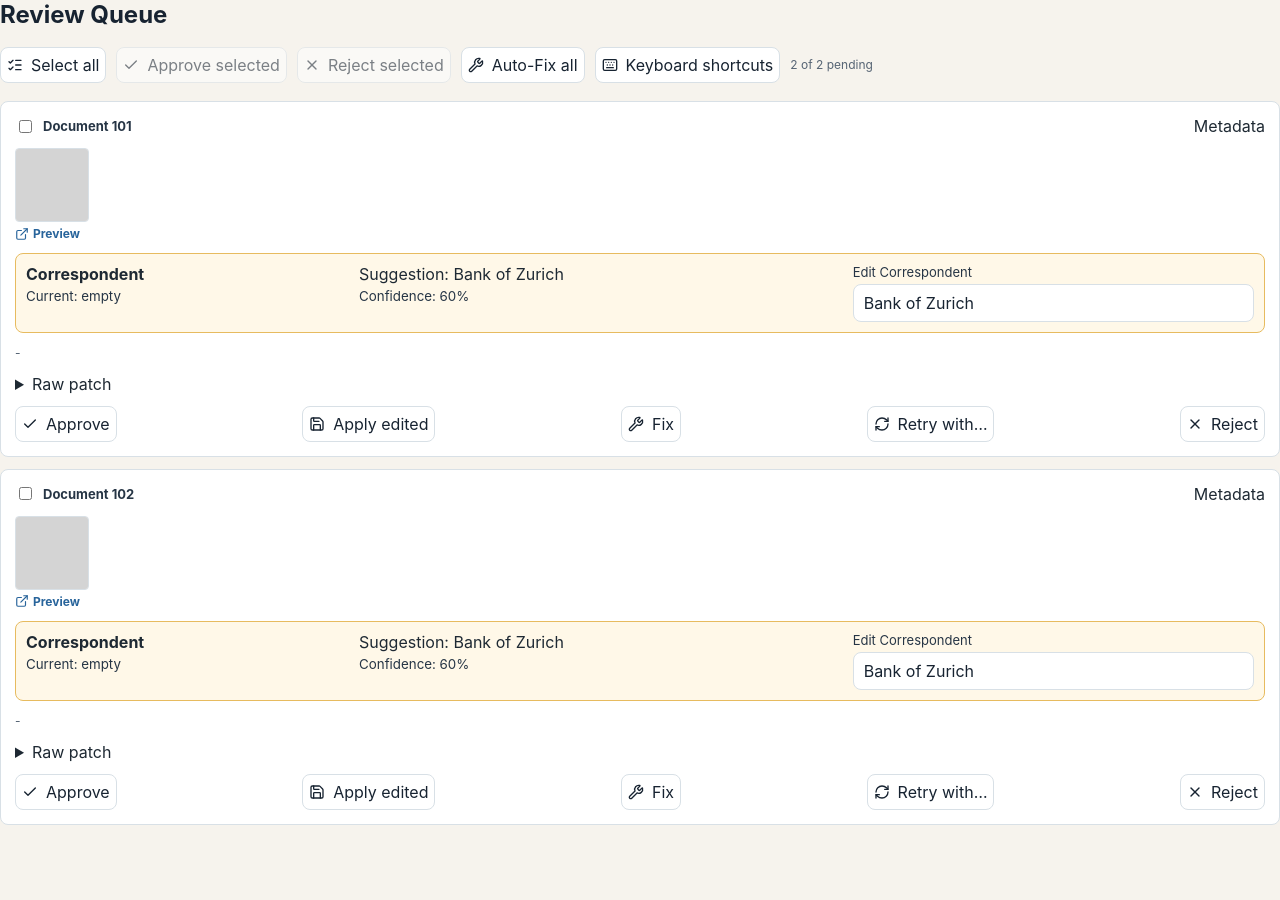
<Reviews> triage features › retries a metadata review with the chosen provider, model and prompt version (#445)
Expected: the text "Document 101" is shown, [43,118,132,134]
Click the 1st button "Retry with…" at point(931, 424), box [867,406,994,442]
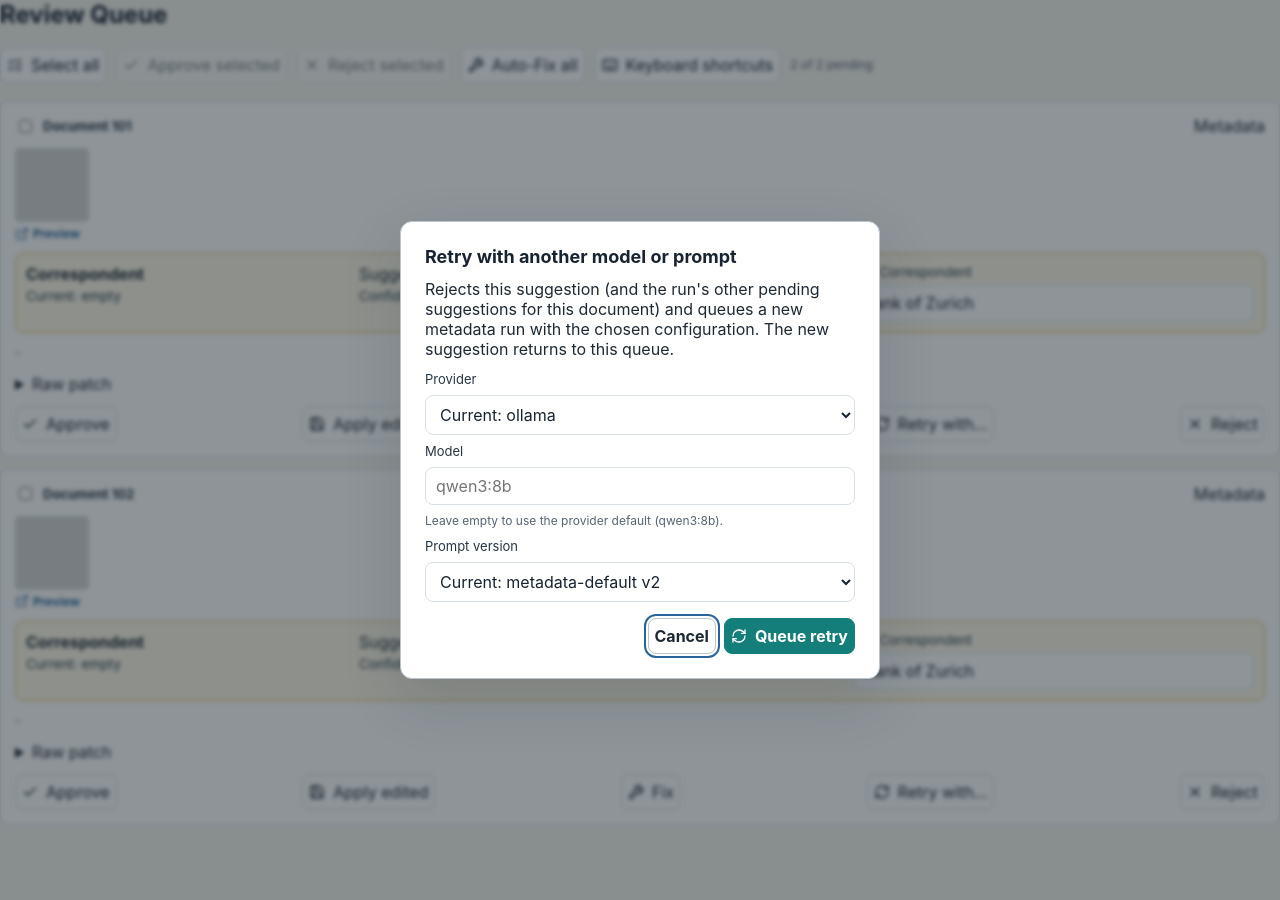
Select "cloud" in the dropdown labelled "Provider" at point(640, 415), box [425,395,855,435]
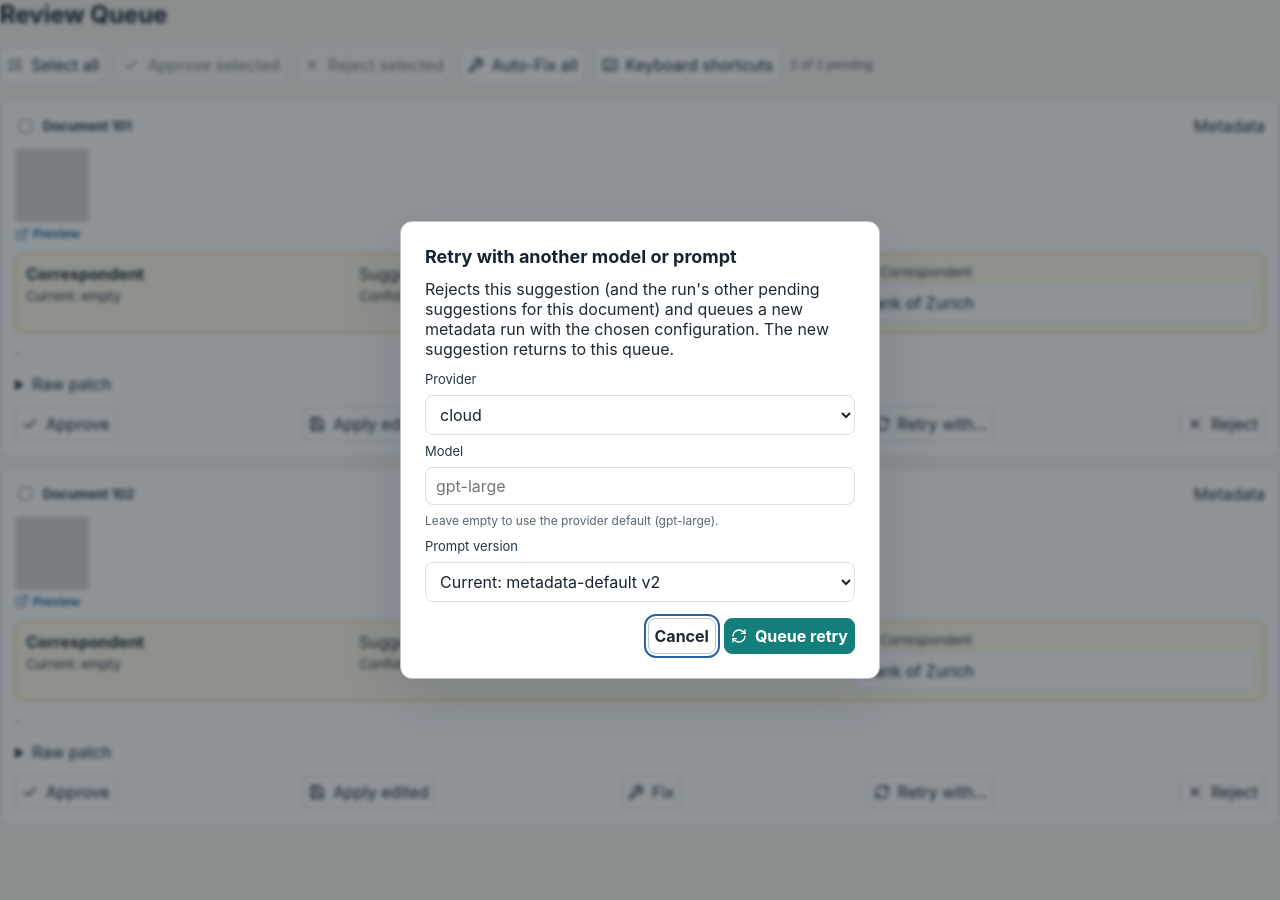
Now the field labelled "Model" has attribute placeholder="gpt-large"
Type " gpt-x " into the field labelled "Model" at point(640, 486), box [425,467,855,505]
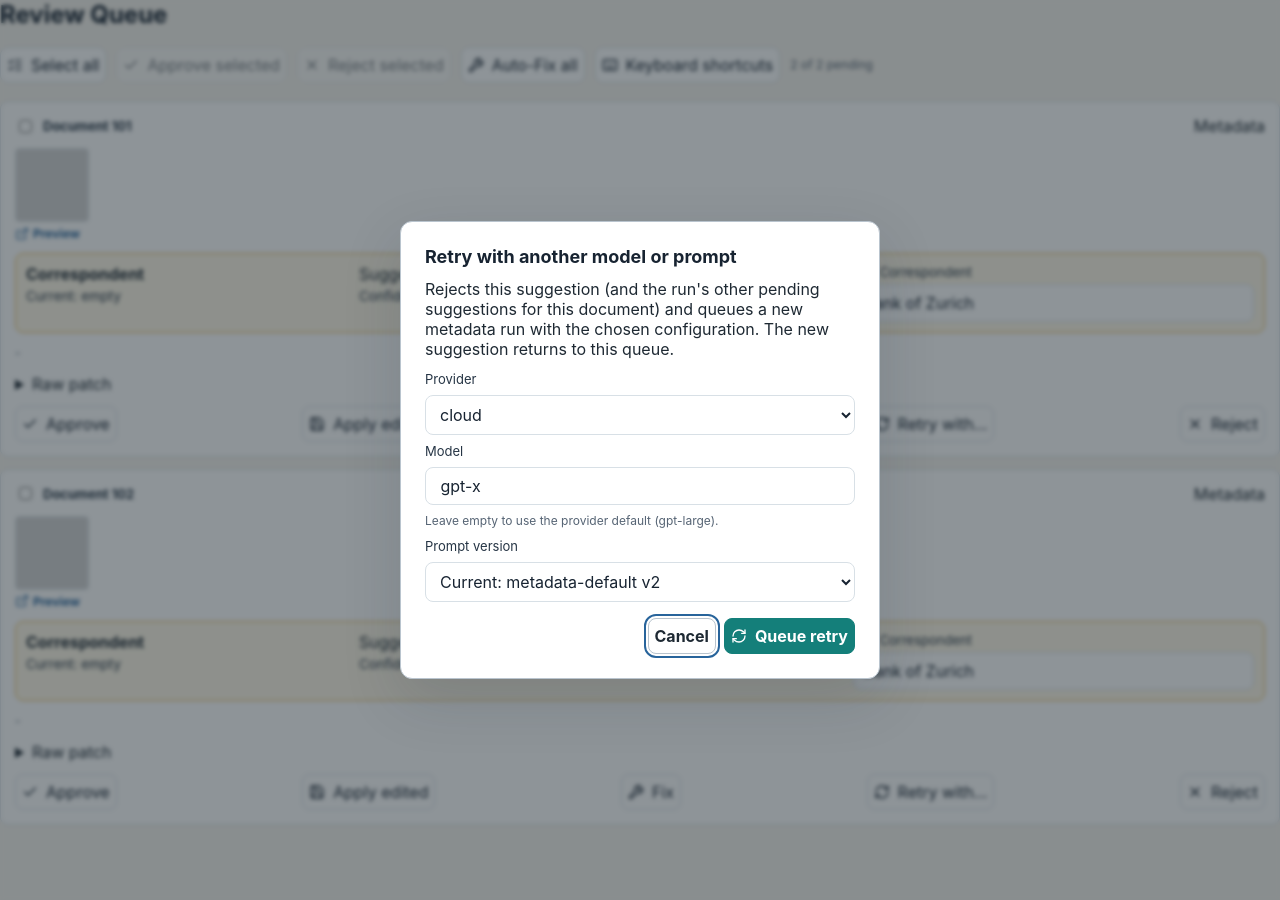
Select "metadata-default v1" in the dropdown labelled "Prompt version" at point(640, 582), box [425,562,855,602]
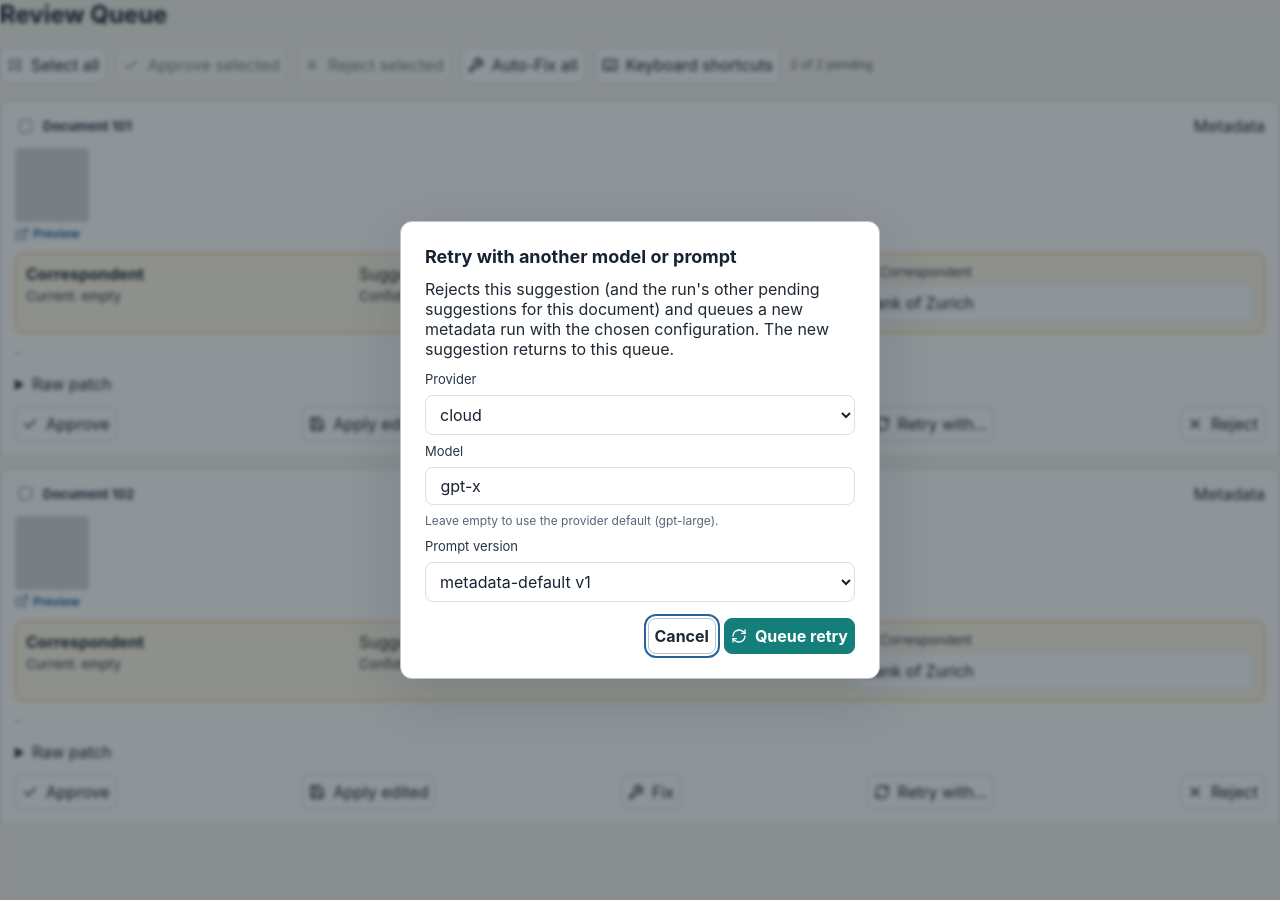
Click the button "Queue retry" at point(789, 636), box [724,618,855,654]
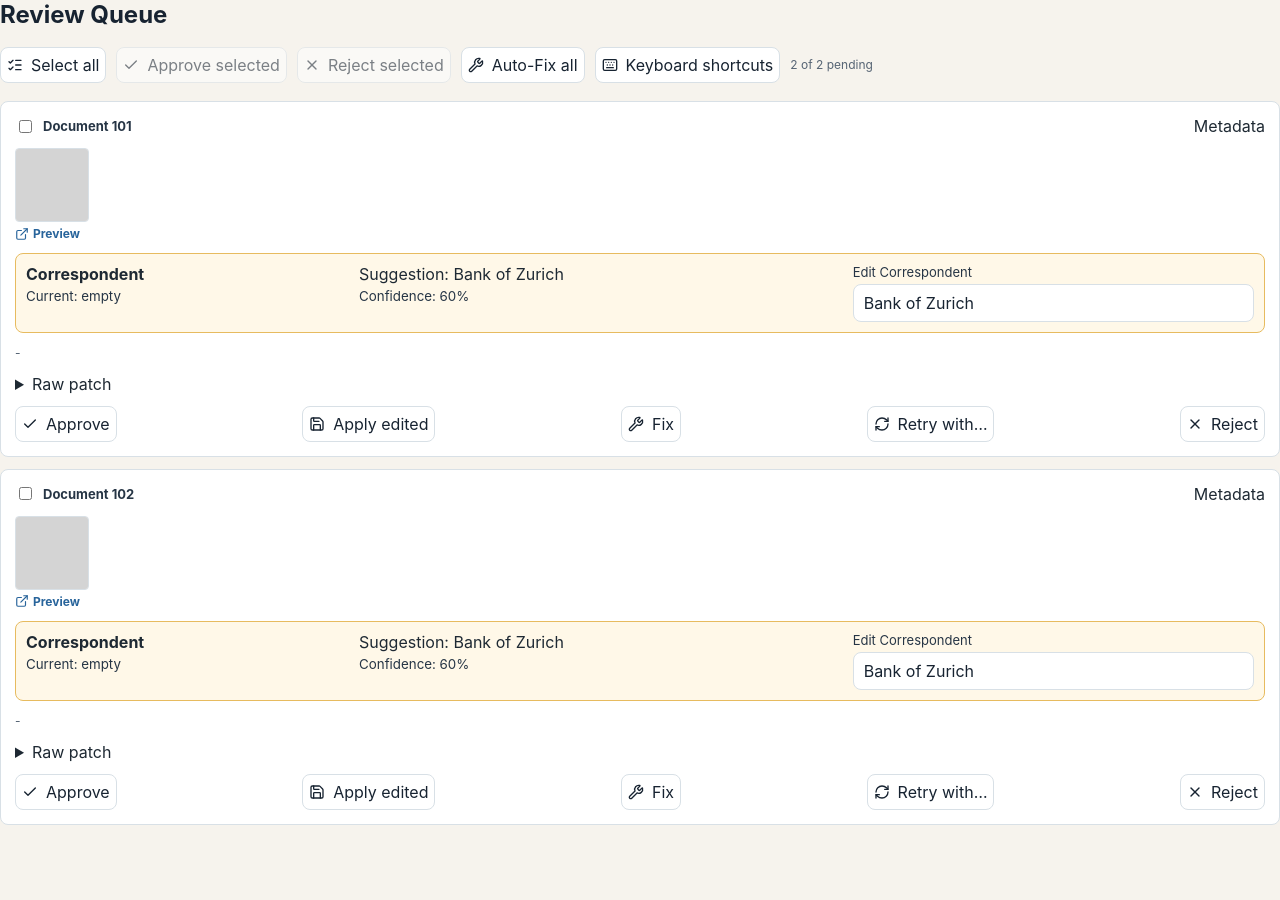
Now the dialog is gone
